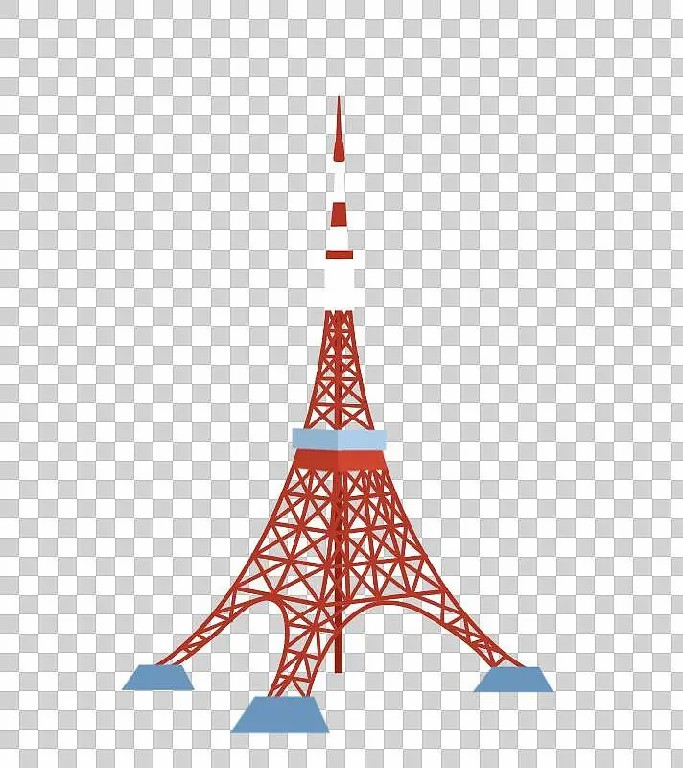Tokyo: (120, 89, 554, 733)
